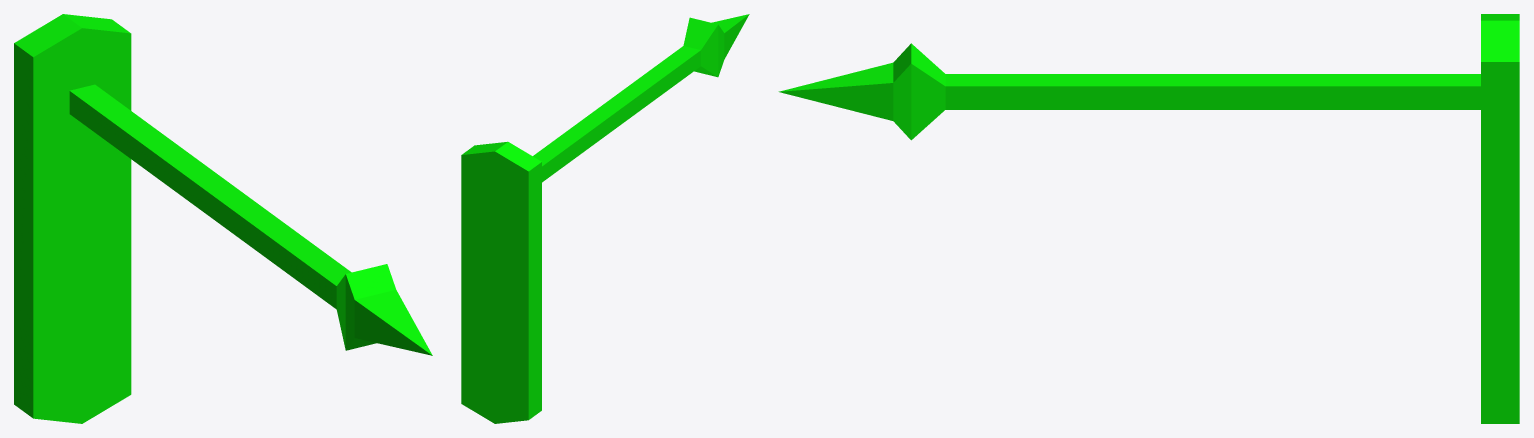
File: SM_Signboard_Holder_B_Fantasy.fbx
3 renders of one model, left to right at view 1: azimuth 30°, elevation 25°; view 2: azimuth 150°, elevation 25°; view 3: azimuth 270°, elevation 25°, orthographic. The views are drawn at different scales.
Visible parts, largest first — view 1: singboard-holder-b-fantasy; view 2: singboard-holder-b-fantasy; view 3: singboard-holder-b-fantasy.
Part boxes in pixels (x1=…): singboard-holder-b-fantasy: x1=14, y1=14, x2=432, y2=423; singboard-holder-b-fantasy: x1=461, y1=14, x2=749, y2=423; singboard-holder-b-fantasy: x1=778, y1=14, x2=1519, y2=423.
Bounding box in the file's own units: 0.3326 × 1.29 × 2.18.
